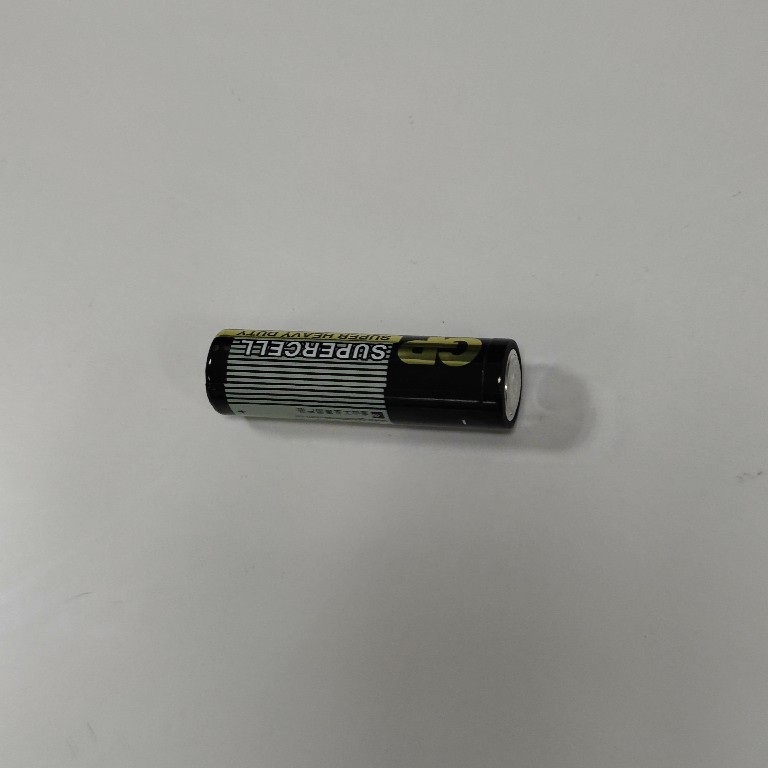charge: (197, 327, 528, 435)
